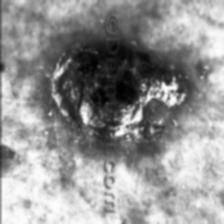Potentially Malignant Skin Tumors: (124, 17, 194, 139), (43, 36, 97, 150)
